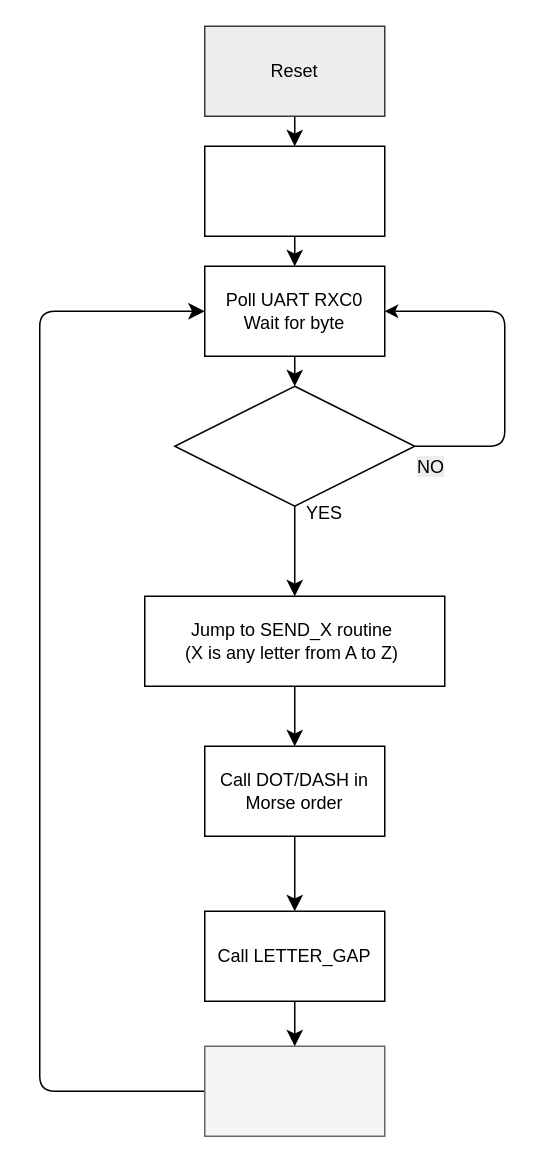
The diagram is 543 pixels wide and 1163 high, and some of its shapes have lost their labels. Each missing label, with the centre of its shape:
Init Stack, GPIO UART, Timer1: the point at 294,190
Match A - Z ?: the point at 294,445
Return to WAIT_RX: the point at 294,1090
